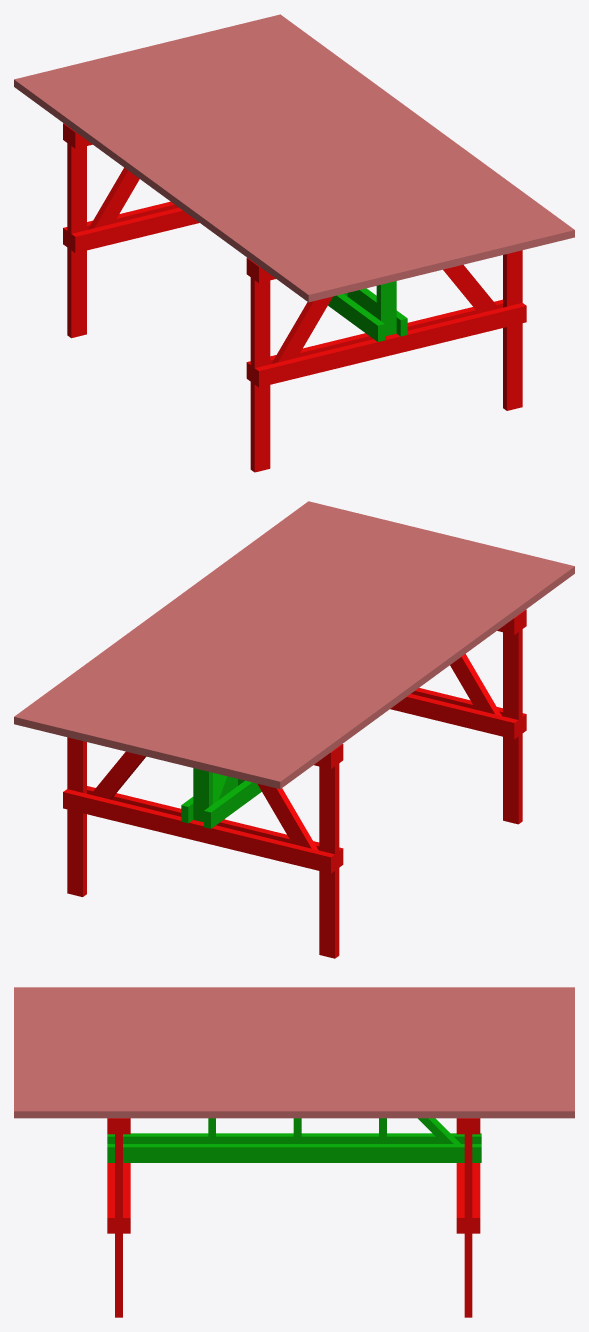
The model's file is result.glb.
3 renders of one model, top to bottom at view 1: azimuth 30°, elevation 25°; view 2: azimuth 150°, elevation 25°; view 3: azimuth 270°, elevation 25°, orthographic. The views are drawn at different scales.
Parts seen in each view (by area): view 1: bbf49ded-49e6-4155-bdfd-8e51cc731cff__Box, f554116d-3abe-4fd7-897f-df5fb893050e__sideH, 84ff3bec-8ca2-4c20-8971-e5a5a5966531__undefined, 3a99831e-2b09-4376-a13c-b5aded01d3d4__undefined, f684d7bb-1d45-418d-bc80-4c1530e78fc3__undefined, 4f7970c1-e4f3-402a-a4f2-7f3c821913a7__undefined, 8295ff3c-cb5c-44d0-930a-ff08eb7d6d23__undefined, 50a1a18b-bf57-4dea-aae8-604250dc171b__undefined, 9eecb495-8f76-40f6-a83f-d917cf279b78__undefined, 9244a9d1-1506-42fa-9578-3b2f0acae011__undefined, 233d536b-d6b3-459b-adcb-29e0cfc4ecad__undefined, b16e60ac-f712-4a39-950b-2aee75131c65__undefined (+18 smaller); view 2: bbf49ded-49e6-4155-bdfd-8e51cc731cff__Box, d7802592-ed2e-4e2c-8bbe-87a094873ad1__undefined, 84ff3bec-8ca2-4c20-8971-e5a5a5966531__undefined, 8295ff3c-cb5c-44d0-930a-ff08eb7d6d23__undefined, 3a99831e-2b09-4376-a13c-b5aded01d3d4__undefined, 4f7970c1-e4f3-402a-a4f2-7f3c821913a7__undefined, f684d7bb-1d45-418d-bc80-4c1530e78fc3__undefined, b5cfa2f9-313e-4244-956f-5bbe8ad9b0be__undefined, 9eecb495-8f76-40f6-a83f-d917cf279b78__undefined, 9e45d1e7-4609-4ee3-9a4c-6b17bba908df__undefined, 233d536b-d6b3-459b-adcb-29e0cfc4ecad__undefined, ec02c863-795c-4800-8c16-a0813e542f5d__undefined (+17 smaller); view 3: 7d5c2b41-c024-4e27-9d05-55f7ee1b0806__undefined, 351261ab-e660-4f80-b03f-1fe1059d0fd4__strutH, bbf49ded-49e6-4155-bdfd-8e51cc731cff__Box, 9e45d1e7-4609-4ee3-9a4c-6b17bba908df__undefined, 50a1a18b-bf57-4dea-aae8-604250dc171b__undefined, f684d7bb-1d45-418d-bc80-4c1530e78fc3__undefined, b5cfa2f9-313e-4244-956f-5bbe8ad9b0be__undefined, 4f7970c1-e4f3-402a-a4f2-7f3c821913a7__undefined, 9eecb495-8f76-40f6-a83f-d917cf279b78__undefined, 9244a9d1-1506-42fa-9578-3b2f0acae011__undefined, 8295ff3c-cb5c-44d0-930a-ff08eb7d6d23__undefined, 233d536b-d6b3-459b-adcb-29e0cfc4ecad__undefined (+14 smaller).
Part boxes in pixels (<box>): bbf49ded-49e6-4155-bdfd-8e51cc731cff__Box: <box>14,75,324,302</box>; f554116d-3abe-4fd7-897f-df5fb893050e__sideH: <box>254,303,526,387</box>; 84ff3bec-8ca2-4c20-8971-e5a5a5966531__undefined: <box>202,29,512,256</box>; 3a99831e-2b09-4376-a13c-b5aded01d3d4__undefined: <box>249,18,559,244</box>; f684d7bb-1d45-418d-bc80-4c1530e78fc3__undefined: <box>61,64,371,290</box>; 4f7970c1-e4f3-402a-a4f2-7f3c821913a7__undefined: <box>108,52,418,279</box>; 8295ff3c-cb5c-44d0-930a-ff08eb7d6d23__undefined: <box>155,41,465,267</box>; 50a1a18b-bf57-4dea-aae8-604250dc171b__undefined: <box>45,68,355,294</box>; 9eecb495-8f76-40f6-a83f-d917cf279b78__undefined: <box>124,49,433,275</box>; 9244a9d1-1506-42fa-9578-3b2f0acae011__undefined: <box>139,45,449,271</box>; 233d536b-d6b3-459b-adcb-29e0cfc4ecad__undefined: <box>171,37,480,263</box>; b16e60ac-f712-4a39-950b-2aee75131c65__undefined: <box>218,26,527,252</box>; bbf49ded-49e6-4155-bdfd-8e51cc731cff__Box: <box>264,562,574,789</box>; d7802592-ed2e-4e2c-8bbe-87a094873ad1__undefined: <box>63,789,334,873</box>; 84ff3bec-8ca2-4c20-8971-e5a5a5966531__undefined: <box>76,516,386,743</box>; 8295ff3c-cb5c-44d0-930a-ff08eb7d6d23__undefined: <box>123,528,433,754</box>; 3a99831e-2b09-4376-a13c-b5aded01d3d4__undefined: <box>29,505,339,731</box>; 4f7970c1-e4f3-402a-a4f2-7f3c821913a7__undefined: <box>170,539,480,765</box>; f684d7bb-1d45-418d-bc80-4c1530e78fc3__undefined: <box>217,551,527,777</box>; b5cfa2f9-313e-4244-956f-5bbe8ad9b0be__undefined: <box>202,547,511,773</box>; 9eecb495-8f76-40f6-a83f-d917cf279b78__undefined: <box>155,535,464,762</box>; 9e45d1e7-4609-4ee3-9a4c-6b17bba908df__undefined: <box>249,558,558,785</box>; 233d536b-d6b3-459b-adcb-29e0cfc4ecad__undefined: <box>108,524,417,750</box>; ec02c863-795c-4800-8c16-a0813e542f5d__undefined: <box>45,509,354,735</box>; 7d5c2b41-c024-4e27-9d05-55f7ee1b0806__undefined: <box>14,1104,574,1118</box>; 351261ab-e660-4f80-b03f-1fe1059d0fd4__strutH: <box>107,1144,481,1162</box>; bbf49ded-49e6-4155-bdfd-8e51cc731cff__Box: <box>14,987,574,994</box>; 9e45d1e7-4609-4ee3-9a4c-6b17bba908df__undefined: <box>14,994,574,1001</box>; 50a1a18b-bf57-4dea-aae8-604250dc171b__undefined: <box>14,1002,574,1009</box>; f684d7bb-1d45-418d-bc80-4c1530e78fc3__undefined: <box>14,1009,574,1016</box>; b5cfa2f9-313e-4244-956f-5bbe8ad9b0be__undefined: <box>14,1016,574,1023</box>; 4f7970c1-e4f3-402a-a4f2-7f3c821913a7__undefined: <box>14,1031,574,1038</box>; 9eecb495-8f76-40f6-a83f-d917cf279b78__undefined: <box>14,1038,574,1045</box>; 9244a9d1-1506-42fa-9578-3b2f0acae011__undefined: <box>14,1045,574,1052</box>; 8295ff3c-cb5c-44d0-930a-ff08eb7d6d23__undefined: <box>14,1053,574,1060</box>; 233d536b-d6b3-459b-adcb-29e0cfc4ecad__undefined: <box>14,1060,574,1067</box>.
Size of the model in its own units: 940 by 725 by 1790.
